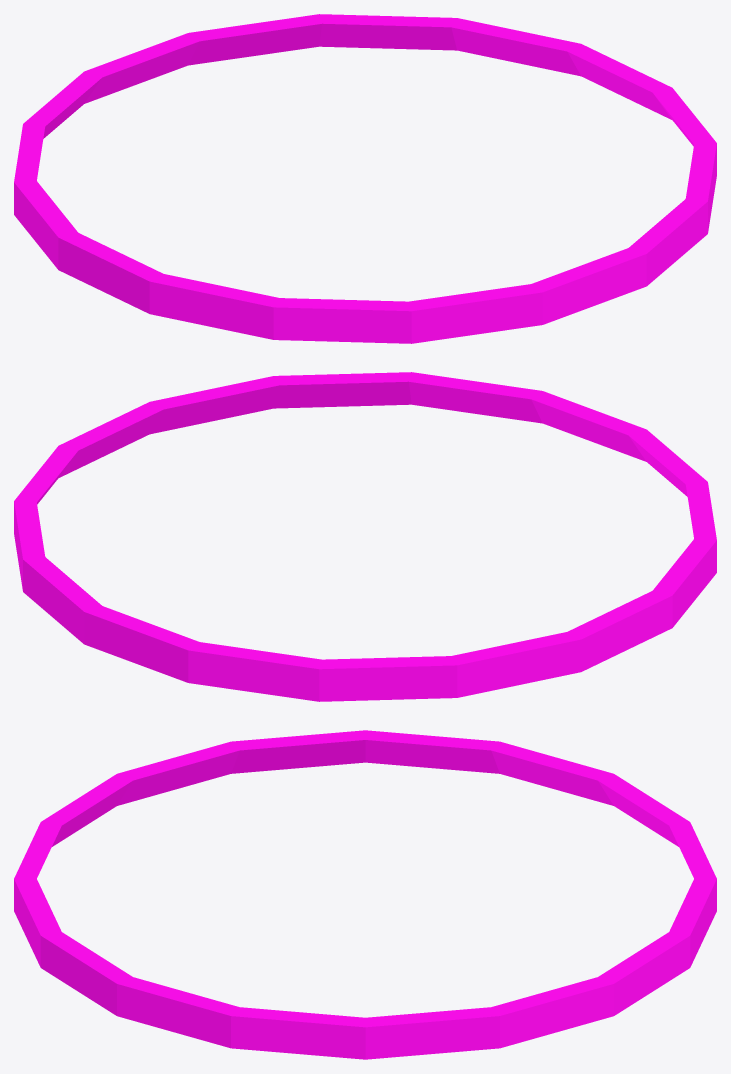
The model's file is Ring_Purple_Light.glb.
The picture shows the model from 3 angles, top to bottom: view 1: azimuth 30°, elevation 25°; view 2: azimuth 150°, elevation 25°; view 3: azimuth 270°, elevation 25°; orthographic projection.
Parts seen in each view (by area): view 1: Cylinder.011; view 2: Cylinder.011; view 3: Cylinder.011.
Boxes of the visible parts, x1,y1,x2,y2 form: Cylinder.011: (14, 14, 716, 343); Cylinder.011: (14, 372, 716, 701); Cylinder.011: (14, 730, 716, 1059).
Size of what is drawn, in the model's own units: 2 by 0.1015 by 2.
1 material, 1 textured.
